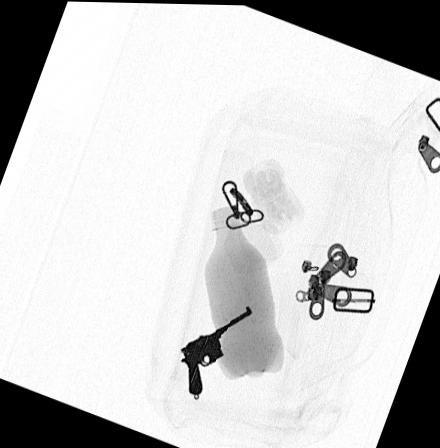Gun: (176, 303, 253, 395)
